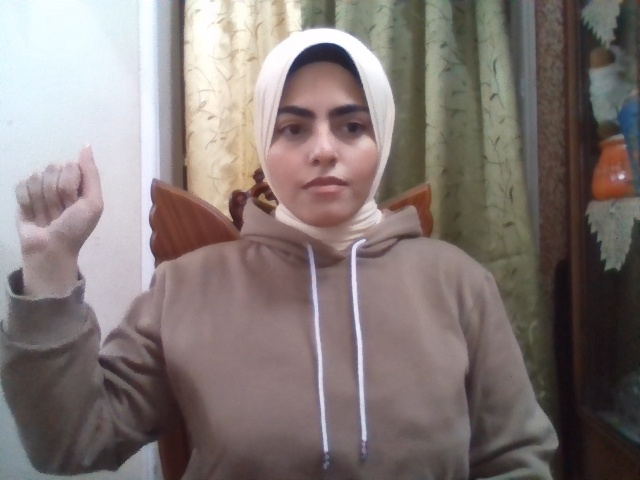A: (15, 141, 104, 257)
